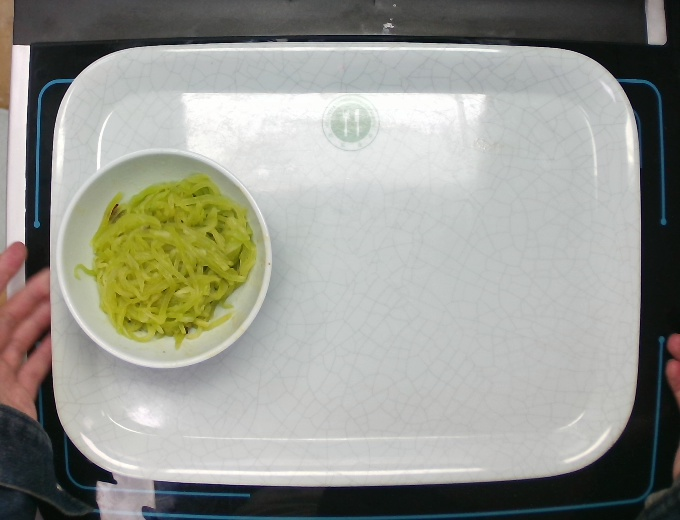JYsf-Fan_Wan: (53, 145, 274, 370)
